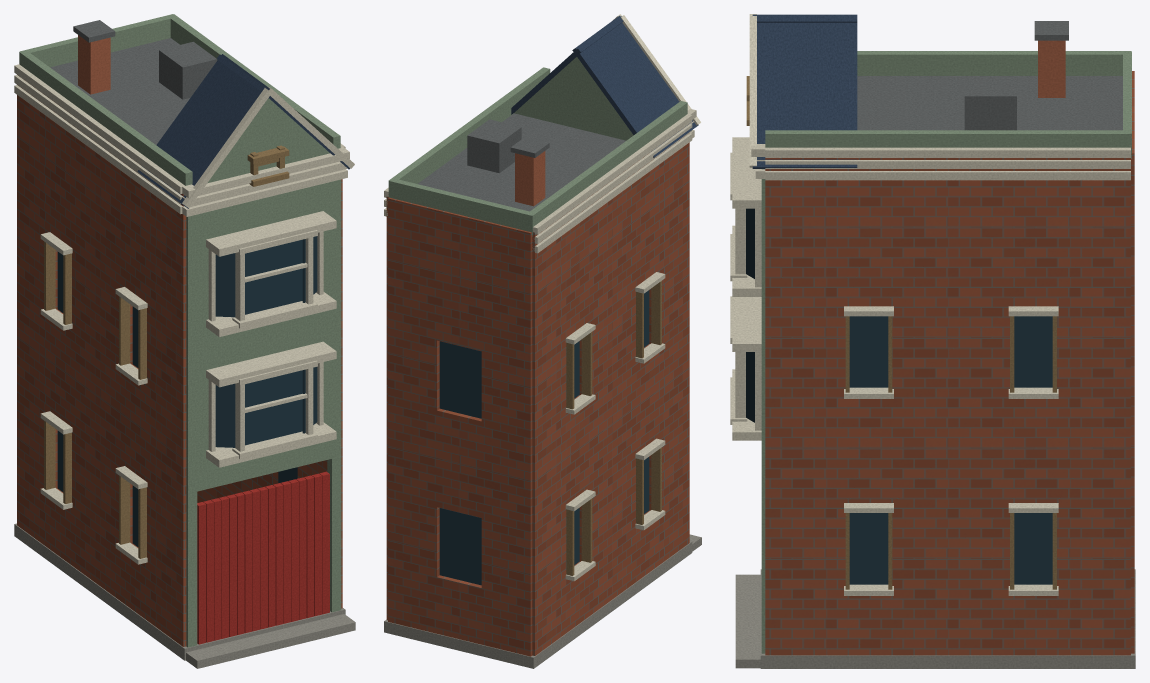
File: VICT12_lod2.glb
3 views of the same model, side by side, from view 1: azimuth 30°, elevation 25°; view 2: azimuth 150°, elevation 25°; view 3: azimuth 270°, elevation 25° (orthographic). The views are drawn at different scales.
Visible parts, largest first — view 1: VICT12_LOD2; view 2: VICT12_LOD2; view 3: VICT12_LOD2.
Boxes of the visible parts, x1,y1,x2,y2 form: VICT12_LOD2: [14, 14, 355, 668]; VICT12_LOD2: [384, 14, 701, 668]; VICT12_LOD2: [730, 14, 1135, 668].
Size of the model in its own units: 3.71 by 11.06 by 6.65.
11 materials, 9 textured.
